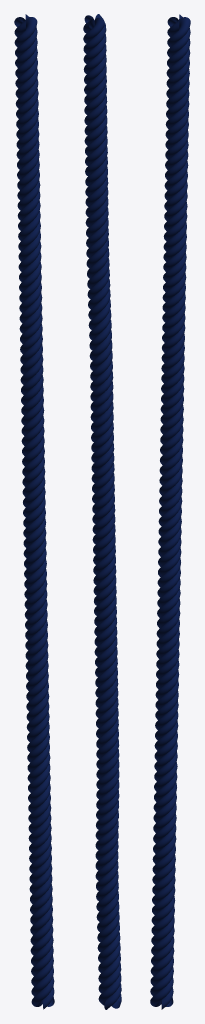
The model's file is Rope.fbx.
The picture shows the model from 3 angles, left to right: view 1: azimuth 90°, elevation 25°; view 2: azimuth 150°, elevation 25°; view 3: azimuth 270°, elevation 25°; orthographic projection.
Parts seen in each view (by area): view 1: Circle.003; view 2: Circle.003; view 3: Circle.003.
Part boxes in pixels (left/top/right/bottom): Circle.003: left=14, top=14, right=54, bottom=1009; Circle.003: left=83, top=14, right=121, bottom=1009; Circle.003: left=150, top=14, right=190, bottom=1009.
Bounding box in the file's own units: 53.59 × 1892 × 70.02.
